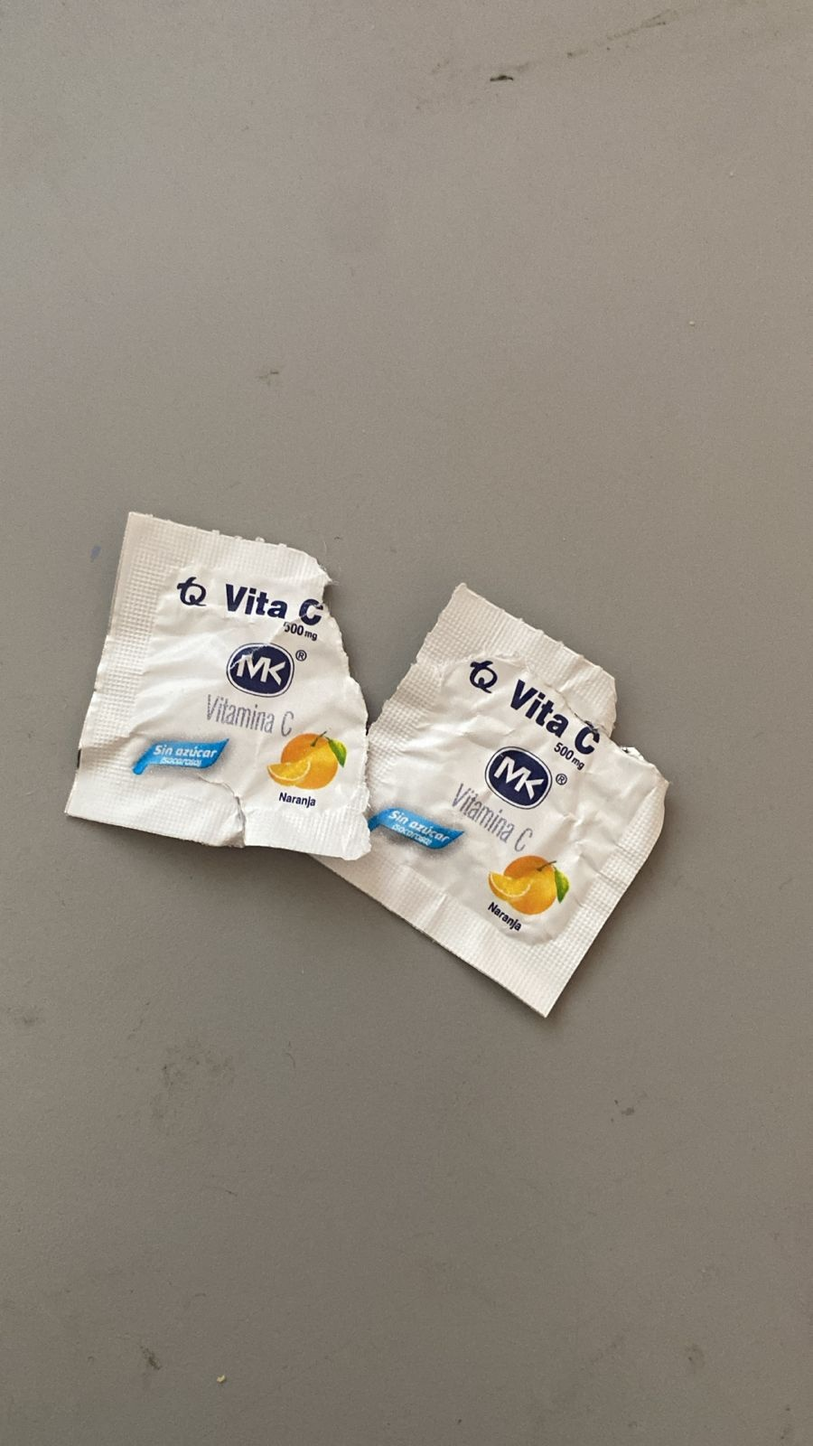Ordinario: (331, 583, 671, 1025), (65, 512, 367, 869)
